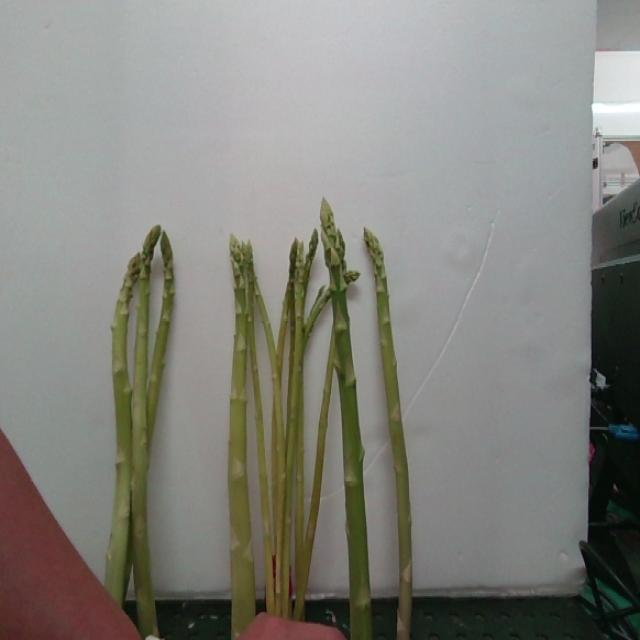aspargus: (323, 201, 374, 640), (365, 231, 414, 640)
